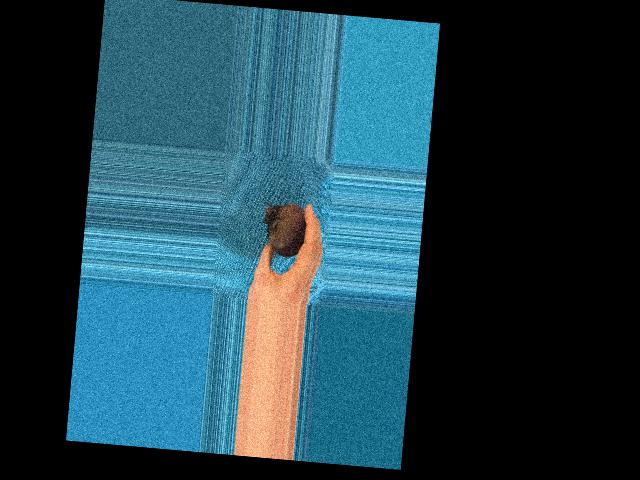beet: (260, 201, 307, 257)
